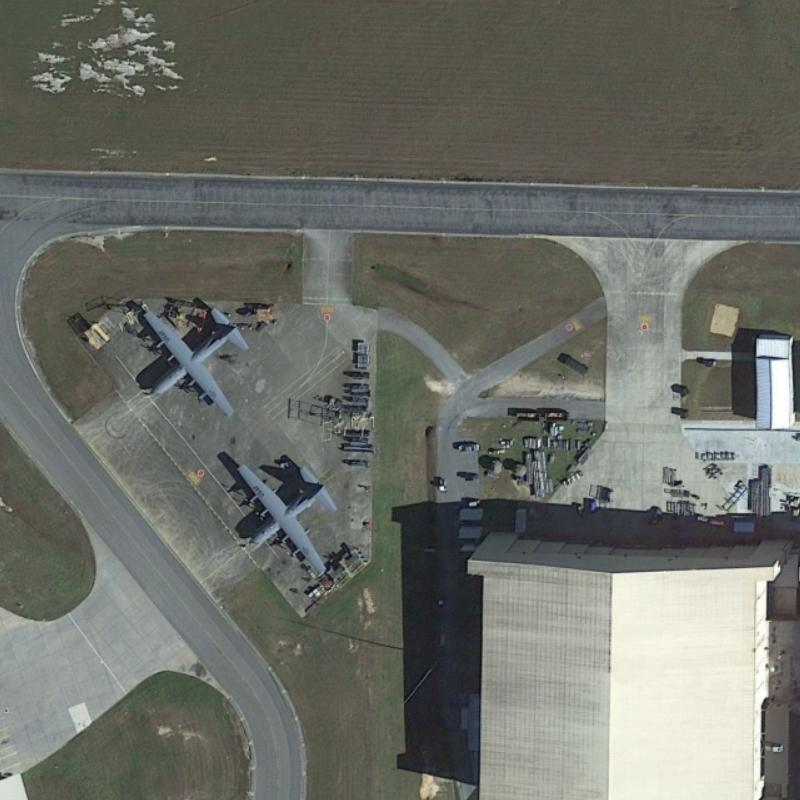A2: (229, 457, 340, 580), (135, 304, 252, 418)
